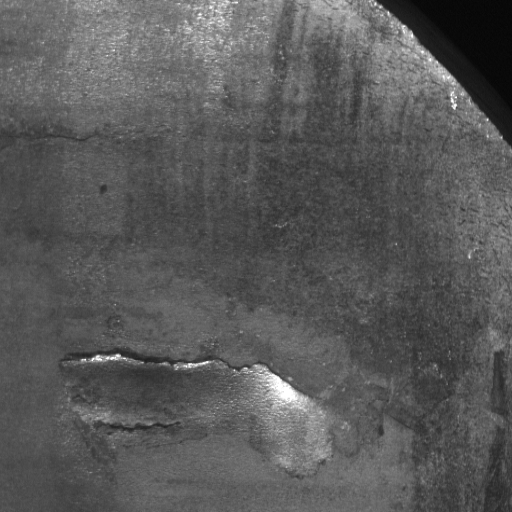qiaopi: (53, 349, 393, 483)
